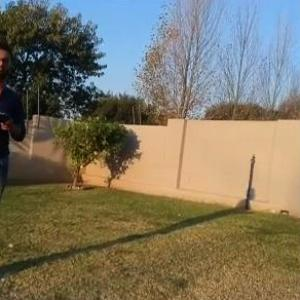follow: (0, 36, 31, 289)
